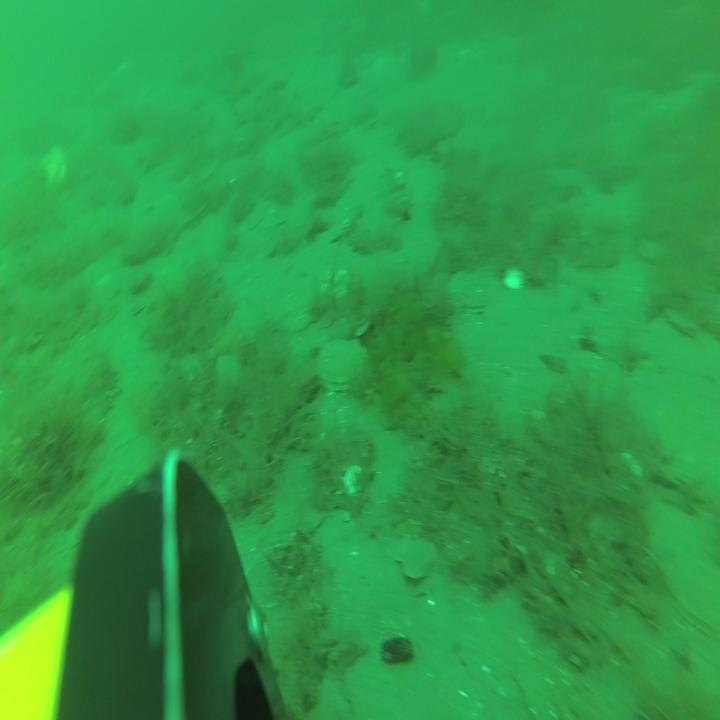scallop: (665, 554, 720, 640), (314, 336, 368, 390), (403, 536, 437, 581), (40, 145, 66, 191), (464, 287, 488, 315)
